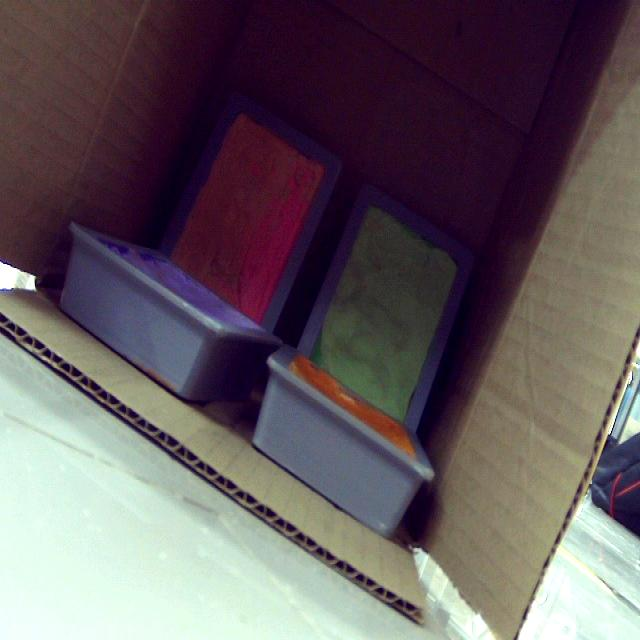block: (290, 188, 474, 434), (162, 97, 344, 331), (58, 226, 288, 406), (252, 344, 437, 540)
